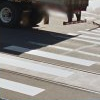crosswalk: (0, 45, 95, 96)
